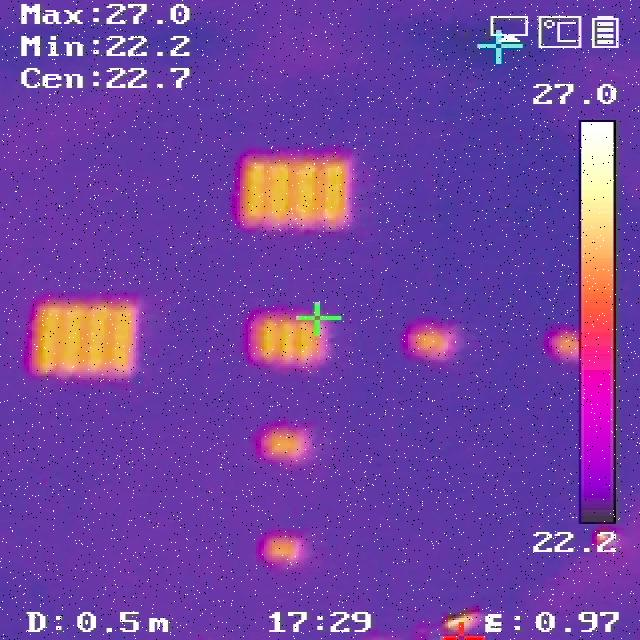Distinguishable 4-bar target: (32, 296, 133, 376), (244, 157, 348, 224)
Indistinguishable 4-bar target: (265, 429, 308, 459), (273, 532, 304, 561), (416, 331, 451, 350), (560, 332, 581, 352)
threshold 4-bar target: (258, 320, 322, 361)
